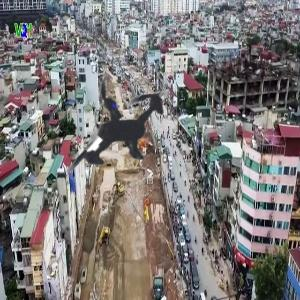drone: (15, 29, 215, 229)
